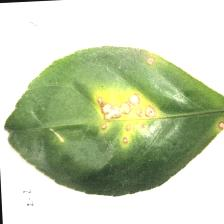canker: (85, 57, 224, 165)
